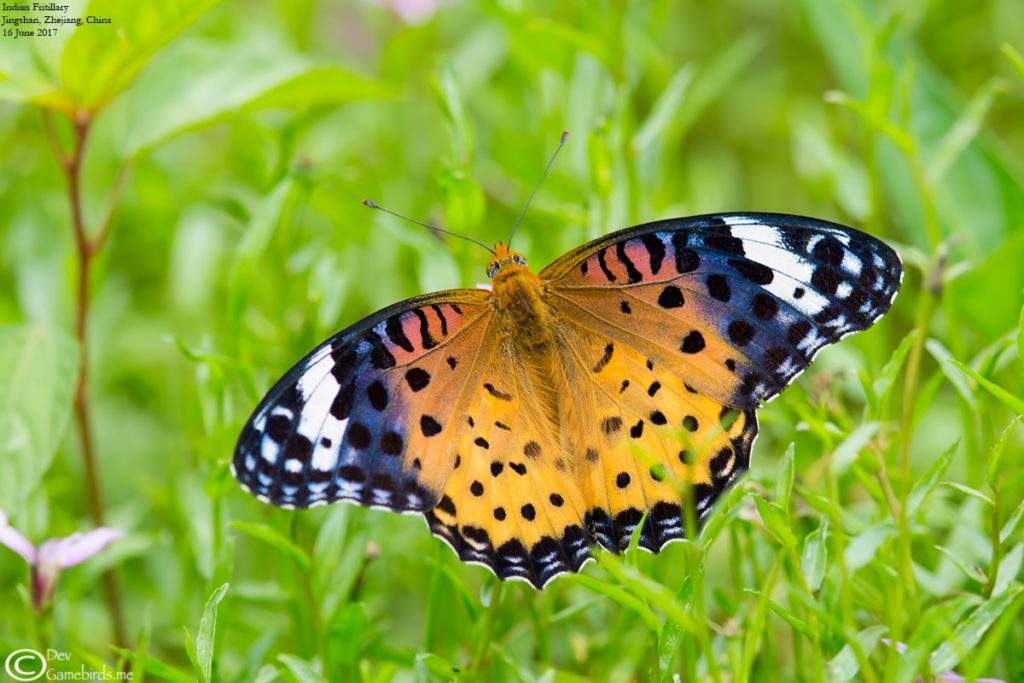Argyreus hyperbius: (225, 112, 907, 596)
butterfly: (227, 114, 909, 598)
